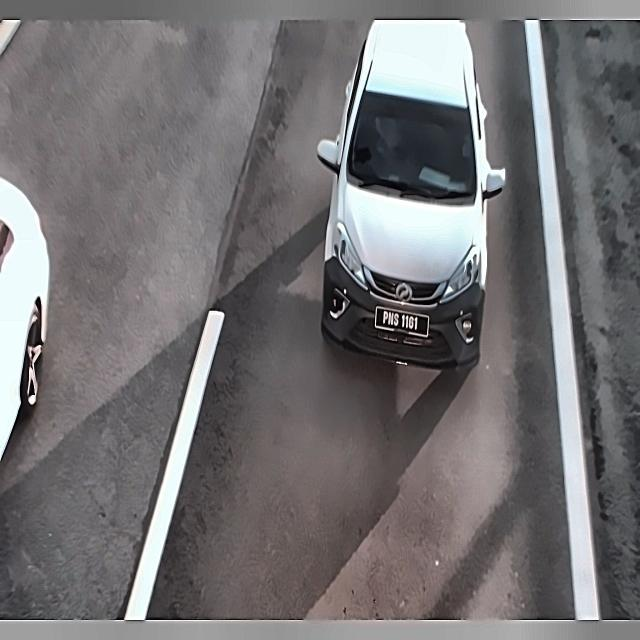car: (370, 298, 436, 342)
